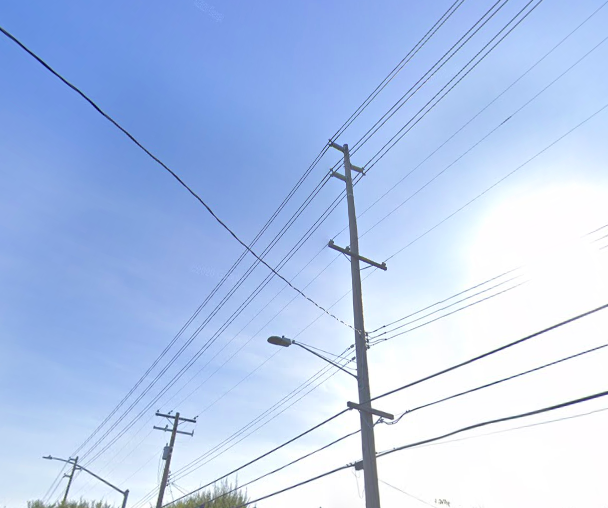utility_pole: (323, 133, 369, 194)
